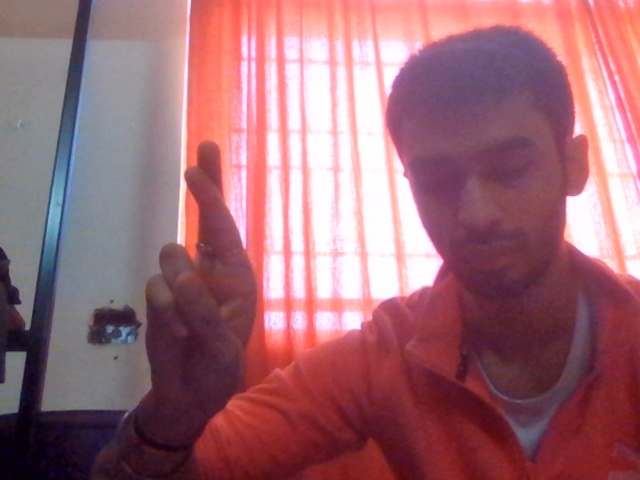R: (108, 111, 283, 436)
